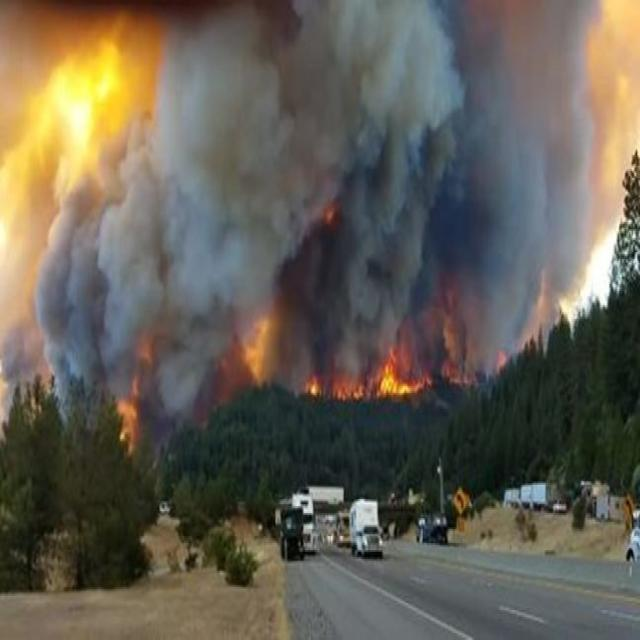Fire: (373, 349, 430, 399), (301, 367, 370, 400)
Smoke: (29, 0, 640, 458)
